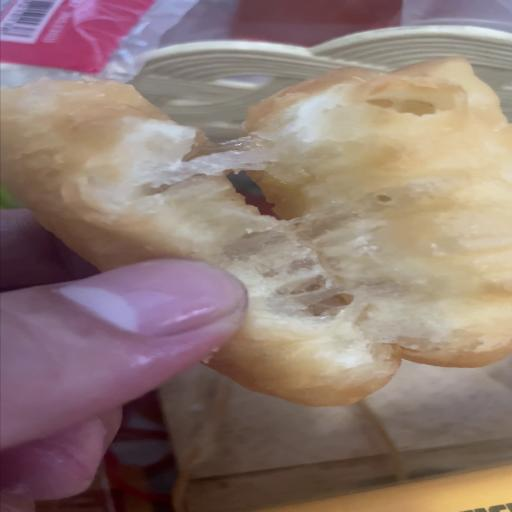street_golden_defect: (4, 56, 512, 400)
